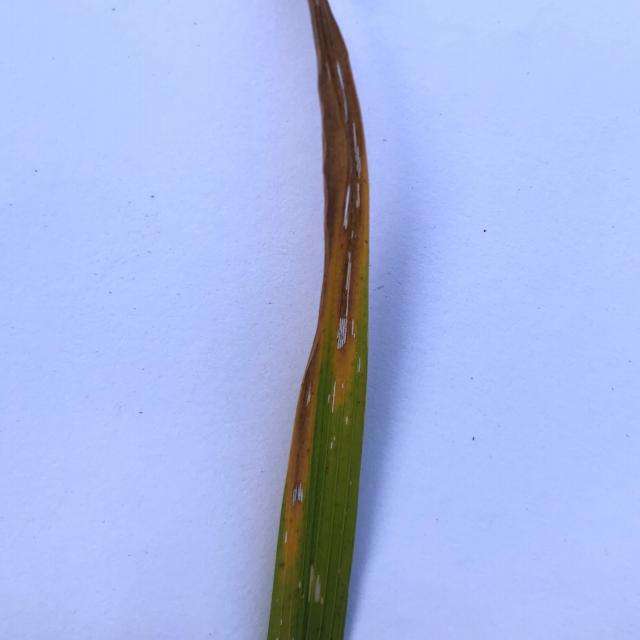tungro: (311, 0, 369, 416), (280, 383, 324, 612)
